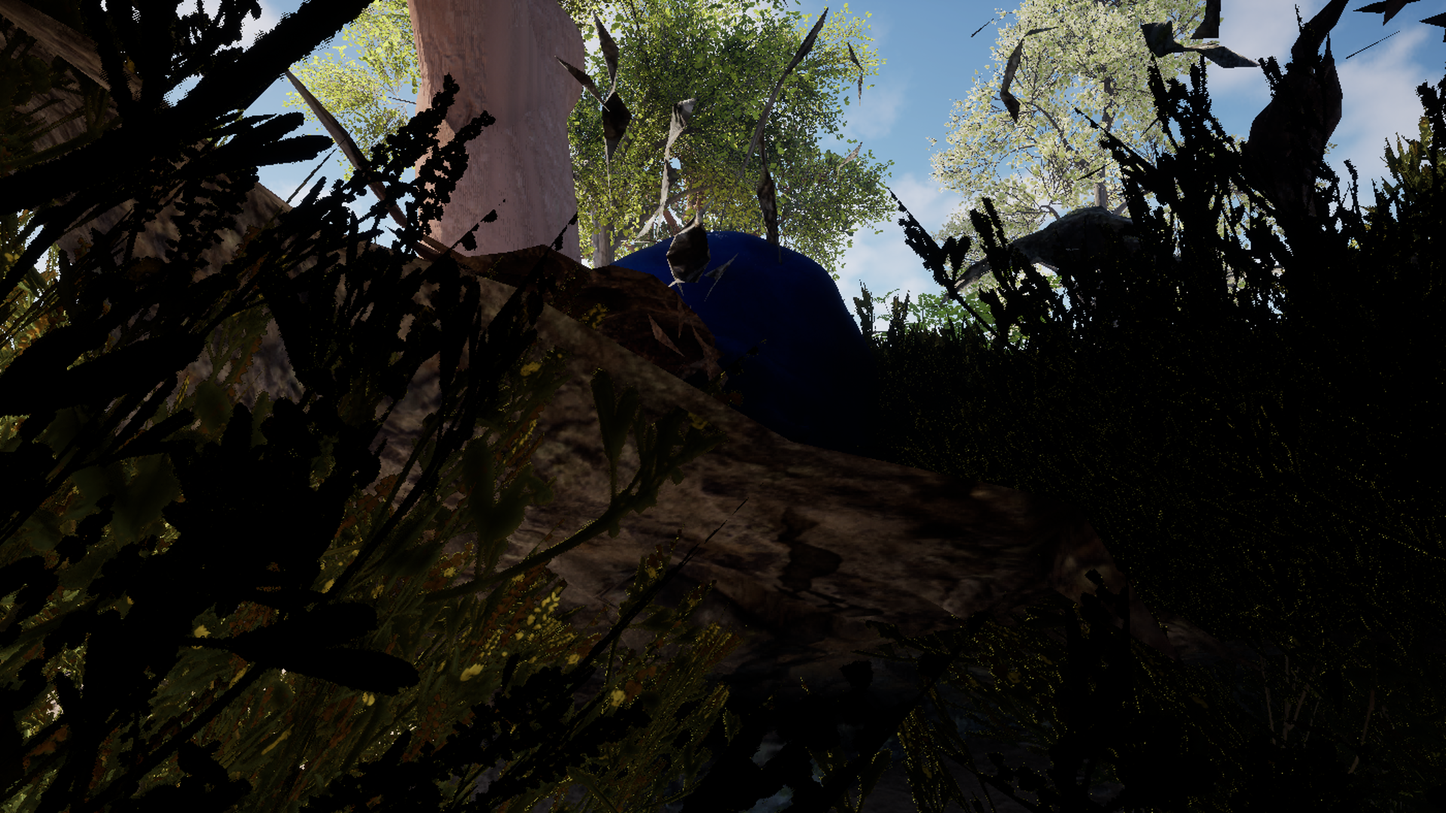Piplup: (258, 0, 1103, 813)
